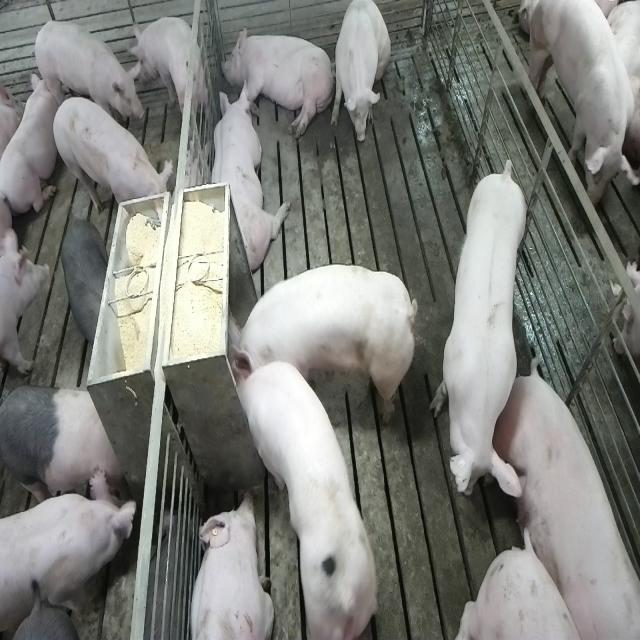Feeding: (230, 355, 380, 636), (230, 262, 423, 426)
Lateral_lying: (222, 23, 336, 141)
Sitting: (332, 0, 389, 147)
Standing: (429, 154, 531, 508), (526, 0, 640, 214), (1, 469, 140, 639), (1, 382, 125, 510), (50, 93, 171, 221), (32, 20, 144, 134), (127, 15, 206, 131), (60, 217, 109, 348)
Sternal_lying: (208, 82, 286, 274), (186, 492, 272, 640), (2, 72, 58, 221)
